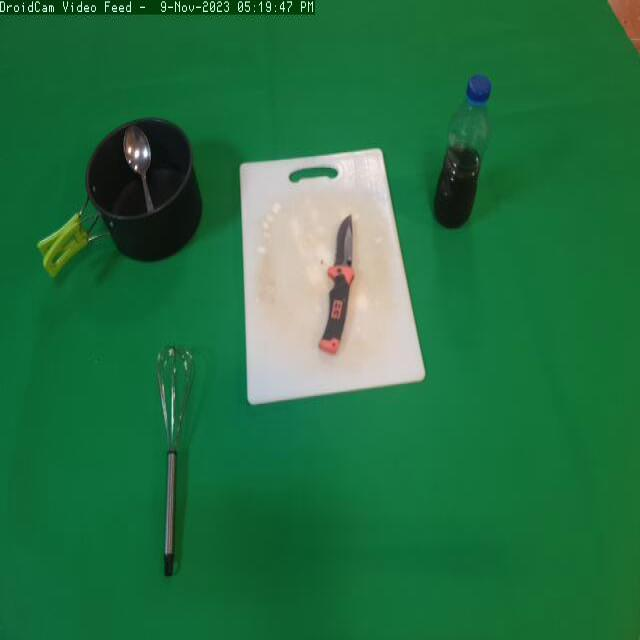cutting board: (230, 135, 437, 427)
fullbottle: (432, 68, 499, 242)
knife: (318, 215, 370, 362)
pot: (35, 105, 211, 292)
spoon: (122, 127, 166, 216)
whisk: (145, 344, 209, 590)
